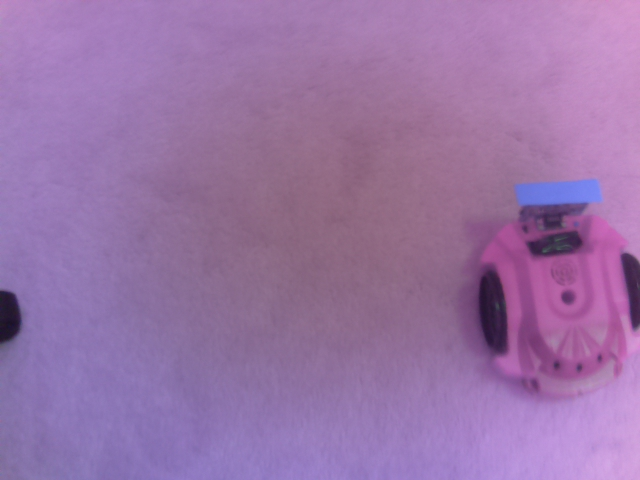board: (506, 168, 604, 226)
chassis: (463, 164, 640, 408)
